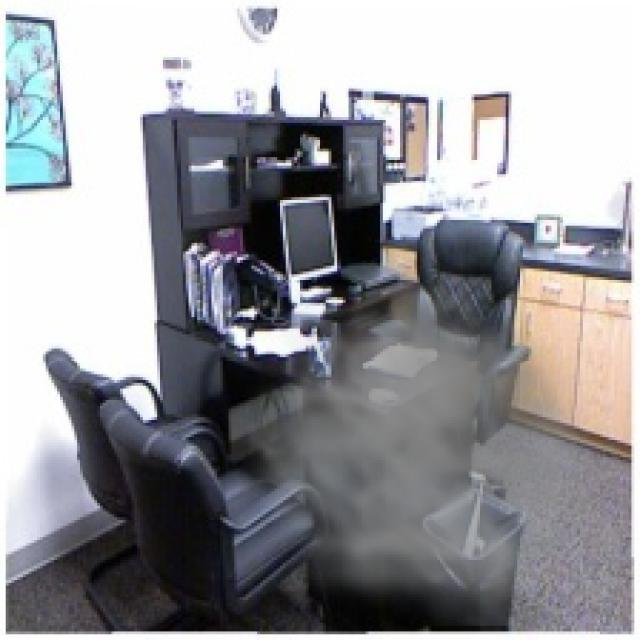smoke: (229, 243, 614, 626)
